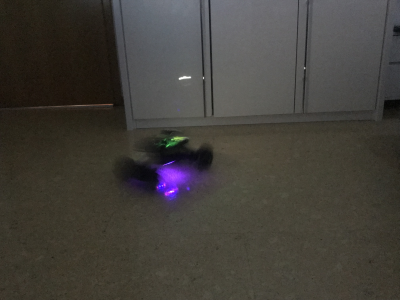remote control car: (112, 124, 215, 198)
